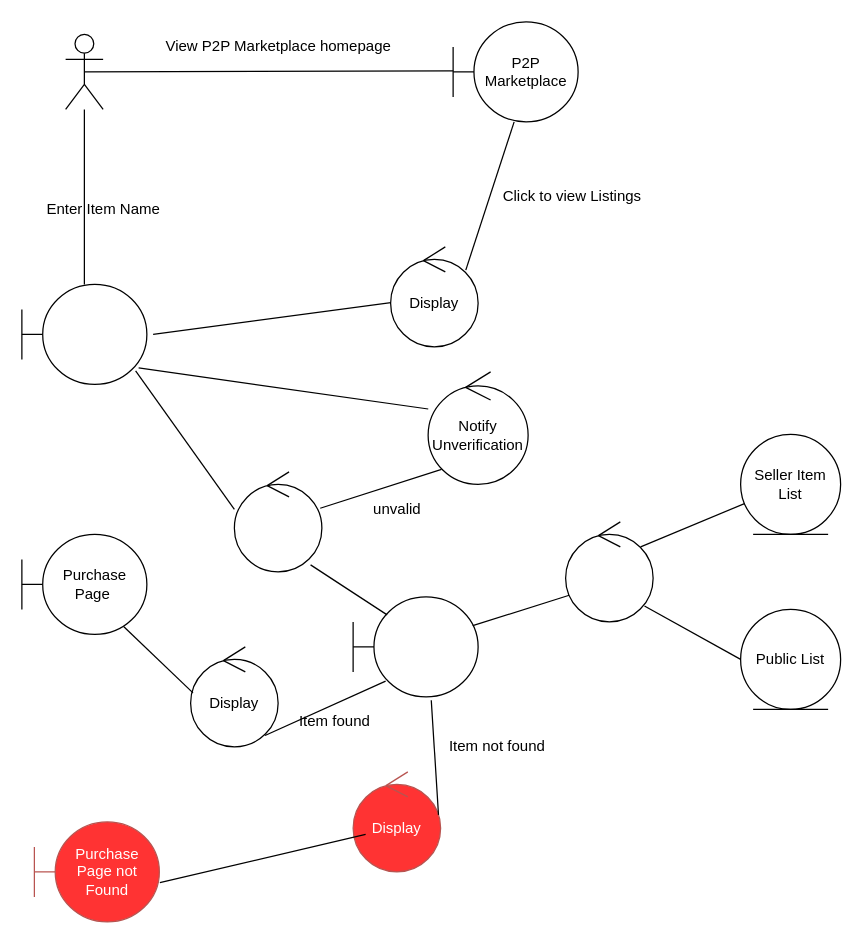
Image size: 863x944. Some labels were removed from this diagram. The shapes that lost their labels are listed below. From the top down, each one's centre as x and y in pixels, then its label:
At (83,71): "Buyer".
At (84,333): "Listing Page".
At (277,521): "Verify Adding Item".
At (608,571): "Retrieve List Deatil".
At (415,646): "Cart".
